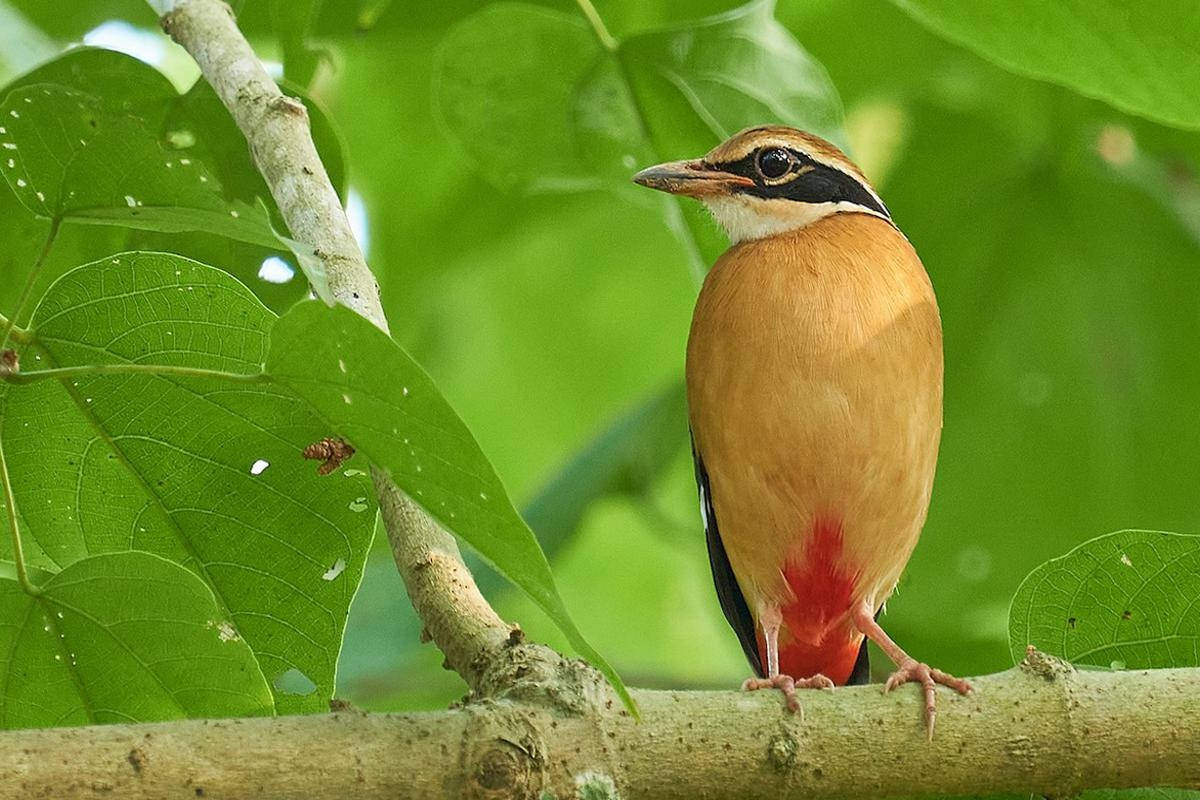pitta: (627, 67, 993, 718)
